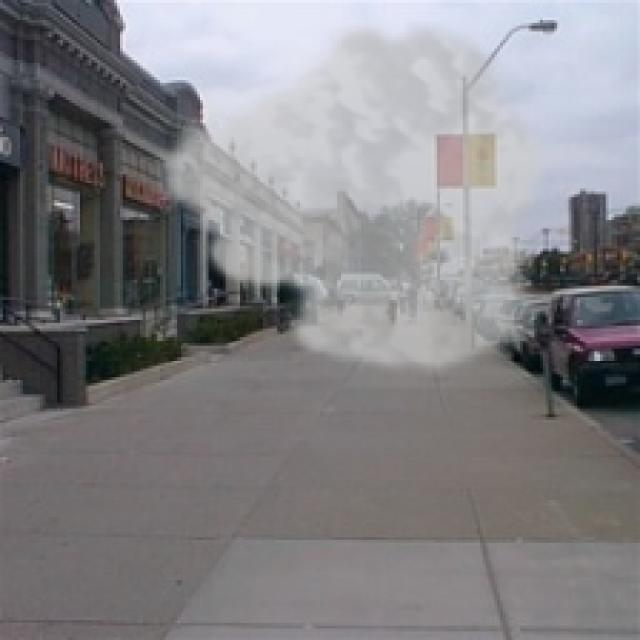smoke: (148, 11, 552, 380)
